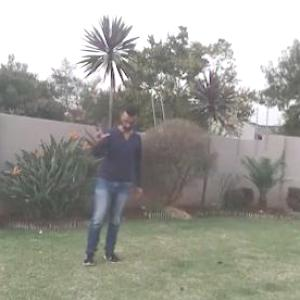land_hand: (89, 116, 112, 147)
